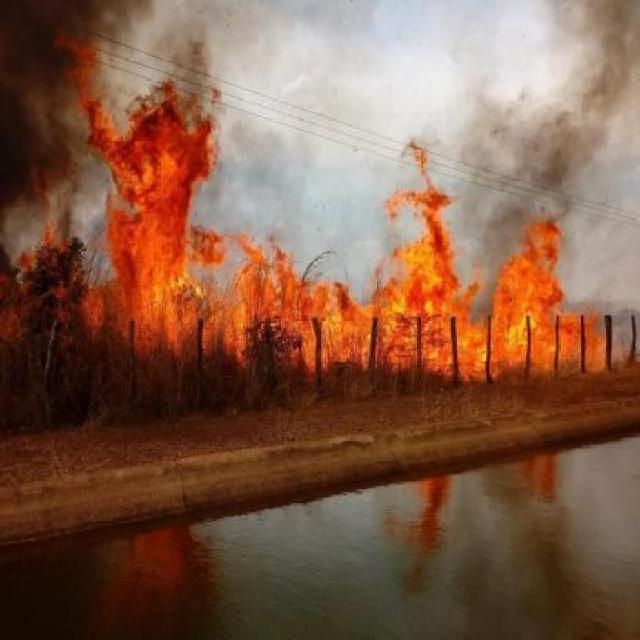Fire: (206, 177, 640, 383), (66, 33, 246, 436)
Smoke: (116, 0, 470, 325), (434, 0, 640, 337), (8, 0, 128, 214)
